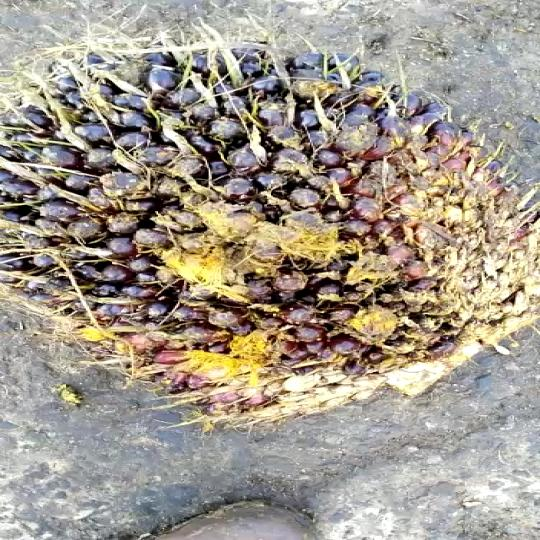mentah: (0, 44, 540, 435)
